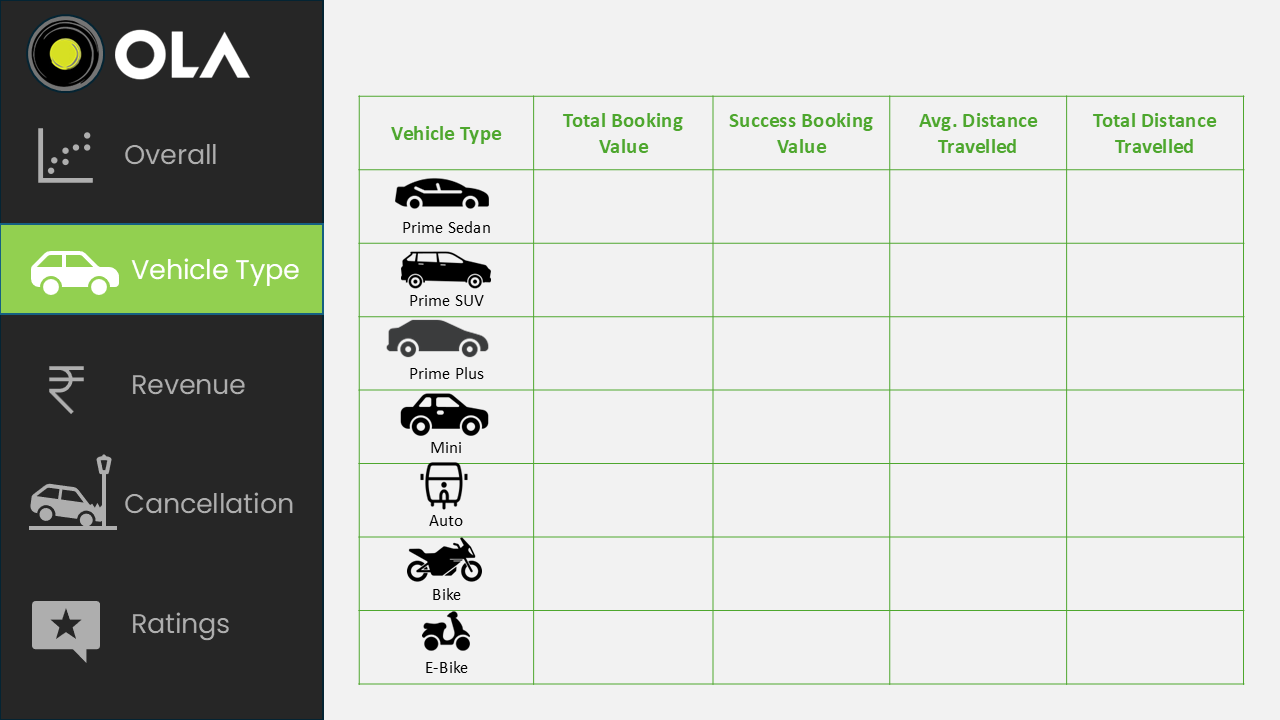

The dashboard page shown, as its layout file describes it:
{"tool":"powerbi","page":{"name":"Vehicle Type","canvas":[1280,720],"ordinal":1},"visuals":[{"type":"actionButton","box":[0,215.4,322.5,102.9],"z":0},{"type":"actionButton","box":[0,340.3,322.5,91.9],"z":1000},{"type":"actionButton","box":[0,450.1,322.5,93.3],"z":2000},{"type":"actionButton","box":[0,112.5,322.5,82.3],"z":3000},{"type":"actionButton","box":[0,590.1,322.5,81],"z":4000},{"type":"card","fields":{"Values":["CountNonNull(July.Booking_ID)"]},"box":[535.2,167.4,175.6,74.1],"z":5000},{"type":"card","fields":{"Values":["CountNonNull(July.Booking_ID)"]},"box":[535.2,231.9,175.6,74.1],"z":6000},{"type":"card","fields":{"Values":["CountNonNull(July.Booking_ID)"]},"box":[535.2,312.9,175.6,74.1],"z":7000},{"type":"card","fields":{"Values":["CountNonNull(July.Booking_ID)"]},"box":[535.2,387,175.6,74.1],"z":8000},{"type":"card","fields":{"Values":["CountNonNull(July.Booking_ID)"]},"box":[535.2,459.7,175.6,74.1],"z":9000},{"type":"card","fields":{"Values":["CountNonNull(July.Booking_ID)"]},"box":[535.2,533.8,175.6,74.1],"z":10000},{"type":"card","fields":{"Values":["CountNonNull(July.Booking_ID)"]},"box":[535.2,607.9,175.6,74.1],"z":11000},{"type":"card","fields":{"Values":["CountNonNull(July.Booking_ID)"]},"box":[710.8,167.4,175.6,74.1],"z":12000},{"type":"card","fields":{"Values":["CountNonNull(July.Booking_ID)"]},"box":[710.8,238.8,175.6,74.1],"z":13000},{"type":"card","fields":{"Values":["CountNonNull(July.Booking_ID)"]},"box":[710.8,312.9,175.6,74.1],"z":14000},{"type":"card","fields":{"Values":["CountNonNull(July.Booking_ID)"]},"box":[710.8,387,175.6,74.1],"z":15000},{"type":"card","fields":{"Values":["CountNonNull(July.Booking_ID)"]},"box":[710.8,459.7,175.6,74.1],"z":16000},{"type":"card","fields":{"Values":["CountNonNull(July.Booking_ID)"]},"box":[710.8,533.8,175.6,74.1],"z":17000},{"type":"card","fields":{"Values":["CountNonNull(July.Booking_ID)"]},"box":[710.8,607.9,175.6,74.1],"z":18000},{"type":"card","fields":{"Values":["Avg(July.Ride_Distance)"]},"box":[886.5,164.7,178.4,74.1],"z":19000},{"type":"card","fields":{"Values":["Avg(July.Ride_Distance)"]},"box":[886.5,238.8,178.4,74.1],"z":20000},{"type":"card","fields":{"Values":["Avg(July.Ride_Distance)"]},"box":[886.5,312.9,178.4,74.1],"z":21000},{"type":"card","fields":{"Values":["Avg(July.Ride_Distance)"]},"box":[886.5,385.6,178.4,74.1],"z":22000},{"type":"card","fields":{"Values":["Avg(July.Ride_Distance)"]},"box":[886.5,459.7,178.4,74.1],"z":23000},{"type":"card","fields":{"Values":["Avg(July.Ride_Distance)"]},"box":[886.5,533.8,178.4,74.1],"z":24000},{"type":"card","fields":{"Values":["Avg(July.Ride_Distance)"]},"box":[886.5,607.9,178.4,74.1],"z":25000},{"type":"card","fields":{"Values":["Sum(July.Ride_Distance)"]},"box":[1064.8,164.7,177,74.1],"z":26000},{"type":"card","fields":{"Values":["Sum(July.Ride_Distance)"]},"box":[1063.5,238.8,177,74.1],"z":27000},{"type":"card","fields":{"Values":["Sum(July.Ride_Distance)"]},"box":[1064.8,312.9,177,74.1],"z":28000},{"type":"card","fields":{"Values":["Sum(July.Ride_Distance)"]},"box":[1064.8,385.6,177,74.1],"z":29000},{"type":"card","fields":{"Values":["Sum(July.Ride_Distance)"]},"box":[1063.5,459.7,177,74.1],"z":30000},{"type":"card","fields":{"Values":["Sum(July.Ride_Distance)"]},"box":[1064.8,533.8,177,74.1],"z":31000},{"type":"card","fields":{"Values":["Sum(July.Ride_Distance)"]},"box":[1064.8,607.9,177,74.1],"z":32000},{"type":"slicer","title":"Date","fields":{"Values":["July.Date"]},"box":[908.4,16.5,332.1,72.7],"z":33000}]}

Visuals, with their boxes on the page's 1280x720 design canvas (x1, y1, x2, y2). These are canvas units, not pixel positions in the 1280x720 screenshot, which may show the page scaled, cropped or inside an application window:
actionButton: Rect(0, 215, 322, 318)
actionButton: Rect(0, 340, 322, 432)
actionButton: Rect(0, 450, 322, 543)
actionButton: Rect(0, 112, 322, 195)
actionButton: Rect(0, 590, 322, 671)
card - CountNonNull(July.Booking_ID): Rect(535, 167, 711, 242)
card - CountNonNull(July.Booking_ID): Rect(535, 232, 711, 306)
card - CountNonNull(July.Booking_ID): Rect(535, 313, 711, 387)
card - CountNonNull(July.Booking_ID): Rect(535, 387, 711, 461)
card - CountNonNull(July.Booking_ID): Rect(535, 460, 711, 534)
card - CountNonNull(July.Booking_ID): Rect(535, 534, 711, 608)
card - CountNonNull(July.Booking_ID): Rect(535, 608, 711, 682)
card - CountNonNull(July.Booking_ID): Rect(711, 167, 886, 242)
card - CountNonNull(July.Booking_ID): Rect(711, 239, 886, 313)
card - CountNonNull(July.Booking_ID): Rect(711, 313, 886, 387)
card - CountNonNull(July.Booking_ID): Rect(711, 387, 886, 461)
card - CountNonNull(July.Booking_ID): Rect(711, 460, 886, 534)
card - CountNonNull(July.Booking_ID): Rect(711, 534, 886, 608)
card - CountNonNull(July.Booking_ID): Rect(711, 608, 886, 682)
card - Avg(July.Ride_Distance): Rect(886, 165, 1065, 239)
card - Avg(July.Ride_Distance): Rect(886, 239, 1065, 313)
card - Avg(July.Ride_Distance): Rect(886, 313, 1065, 387)
card - Avg(July.Ride_Distance): Rect(886, 386, 1065, 460)
card - Avg(July.Ride_Distance): Rect(886, 460, 1065, 534)
card - Avg(July.Ride_Distance): Rect(886, 534, 1065, 608)
card - Avg(July.Ride_Distance): Rect(886, 608, 1065, 682)
card - Sum(July.Ride_Distance): Rect(1065, 165, 1242, 239)
card - Sum(July.Ride_Distance): Rect(1064, 239, 1240, 313)
card - Sum(July.Ride_Distance): Rect(1065, 313, 1242, 387)
card - Sum(July.Ride_Distance): Rect(1065, 386, 1242, 460)
card - Sum(July.Ride_Distance): Rect(1064, 460, 1240, 534)
card - Sum(July.Ride_Distance): Rect(1065, 534, 1242, 608)
card - Sum(July.Ride_Distance): Rect(1065, 608, 1242, 682)
"Date" slicer: Rect(908, 16, 1240, 89)
